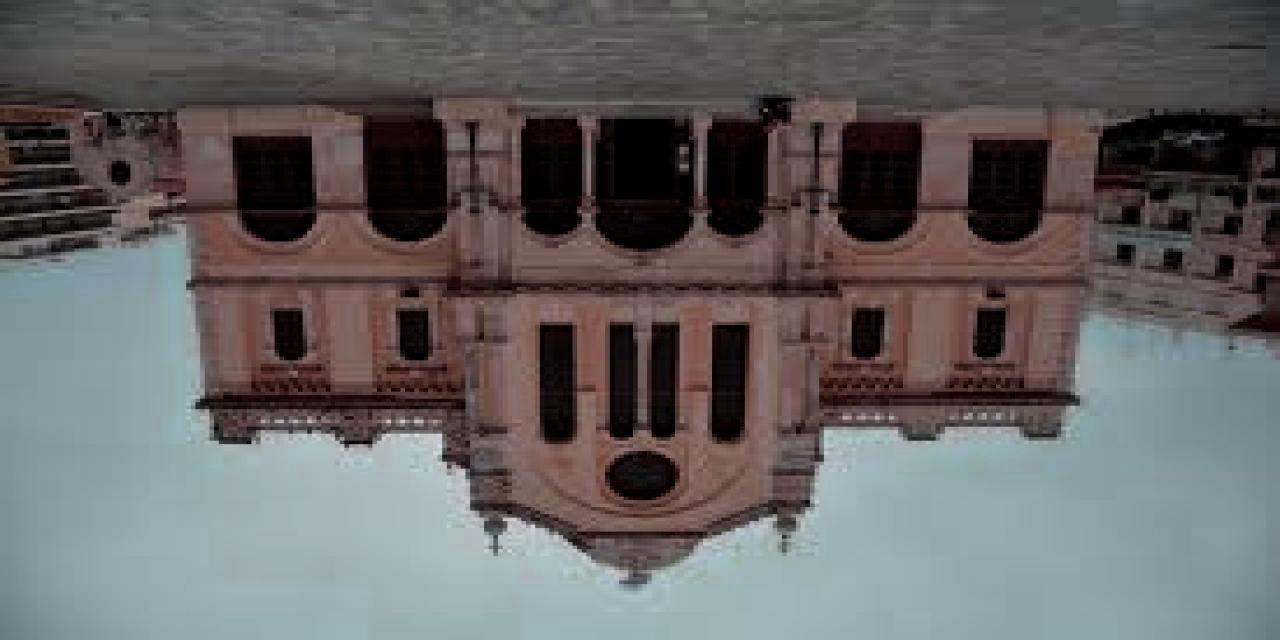Agios Minas: (176, 98, 1103, 629)
